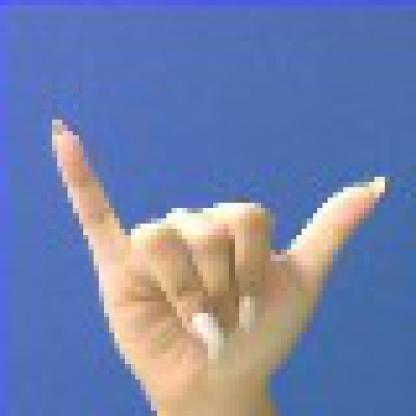six: (26, 88, 406, 411)
